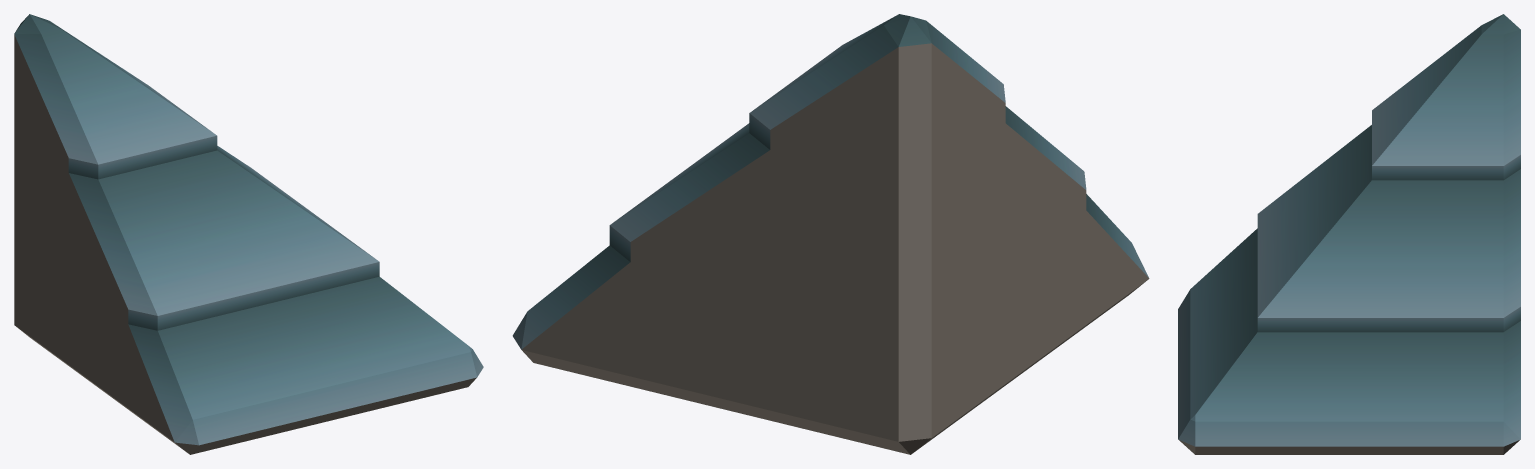
The model's file is m_kub_roofGrey_cornerOut.FBX.
The picture shows the model from 3 angles, left to right: view 1: azimuth 30°, elevation 25°; view 2: azimuth 150°, elevation 25°; view 3: azimuth 270°, elevation 25°; orthographic projection. The views are drawn at different scales.
Visible parts, largest first — view 1: m_kub_roofGrey_cornerOut; view 2: m_kub_roofGrey_cornerOut; view 3: m_kub_roofGrey_cornerOut.
Part boxes in pixels (x1,y1,x2,y2): m_kub_roofGrey_cornerOut: [14, 14, 483, 454]; m_kub_roofGrey_cornerOut: [512, 14, 1149, 454]; m_kub_roofGrey_cornerOut: [1178, 14, 1520, 454].
Size of the model in its own units: 2 by 2 by 2.
